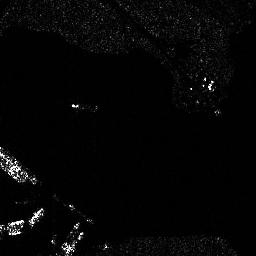ship: (1, 151, 32, 184), (29, 207, 44, 227)
